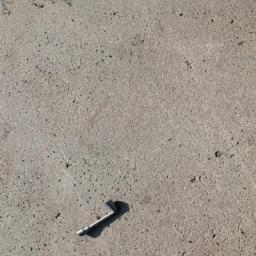FOD: (76, 198, 131, 239)
